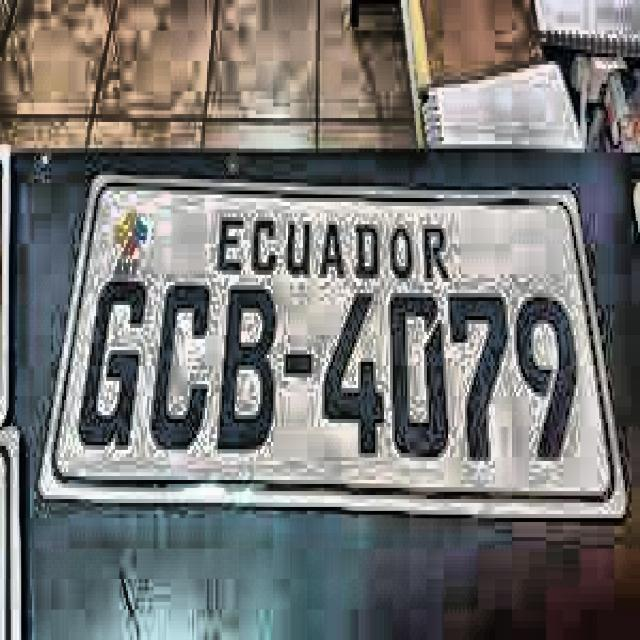license_plate: (31, 154, 637, 533)
